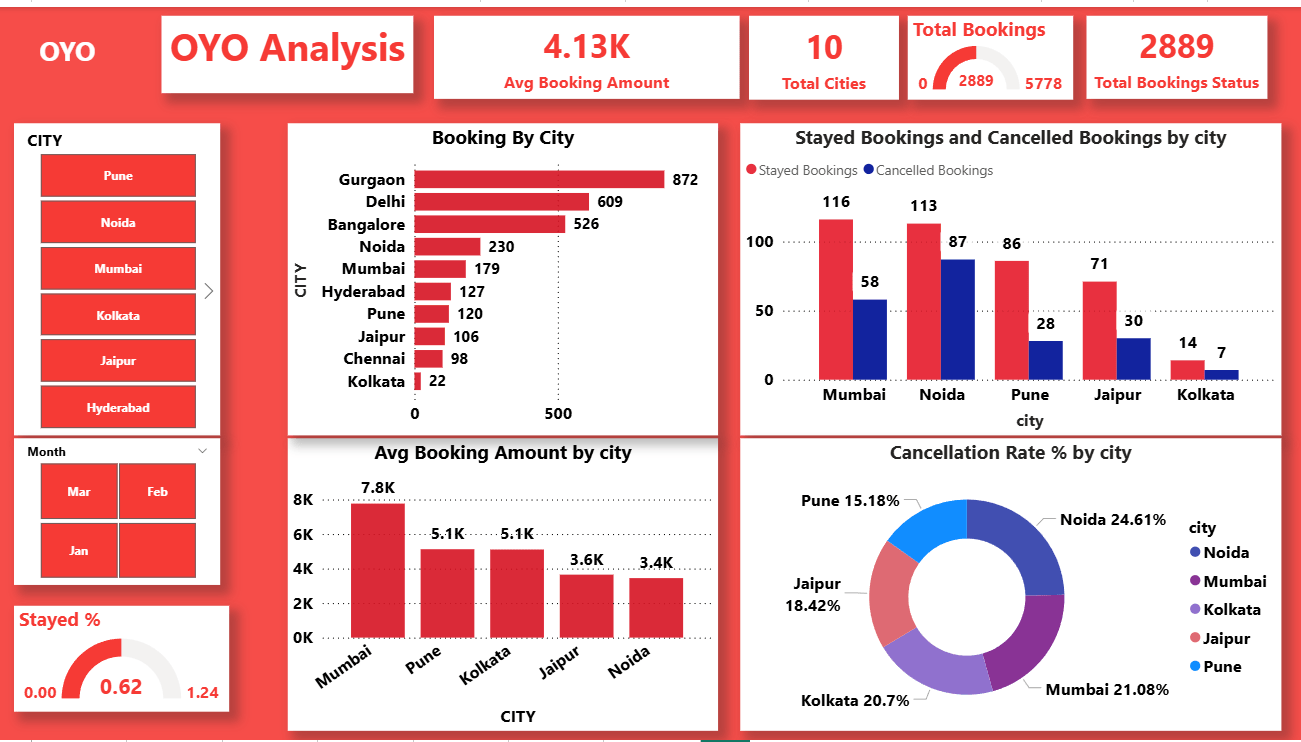

The dashboard page shown, as its layout file describes it:
{"tool":"powerbi","page":{"name":"Page 7","canvas":[1280,720],"ordinal":6},"visuals":[{"type":"textbox","box":[160,8.8,247.5,76.2],"z":0},{"type":"textbox","box":[18.8,20,97.5,48.8],"z":1000},{"type":"card","fields":{"Values":["Oyo SQL.Avg Booking Amount"]},"box":[427.5,8.8,300,81.2],"z":2000},{"type":"card","fields":{"Values":["Oyo SQL.Total Cities"]},"box":[736.2,8.8,147.5,82.5],"z":3000},{"type":"gauge","fields":{"Y":["Oyo SQL.Total Bookings"]},"box":[892.5,8.8,162.5,82.5],"z":4000},{"type":"card","fields":{"Values":["Oyo SQL.Total Bookings Status"]},"box":[1067.5,8.8,177.5,81.2],"z":5000},{"type":"lineClusteredColumnComboChart","fields":{"Category":["Oyo hotels dataset.city"],"Y":["Oyo SQL.Stayed Bookings","Oyo SQL.Cancelled Bookings"]},"box":[727.5,113.8,531.2,306.2],"z":6000},{"type":"donutChart","fields":{"Y":["Oyo SQL.Cancellation Rate %"],"Category":["Oyo hotels dataset.city"]},"box":[727.5,423.8,531.2,287.5],"z":7000},{"type":"columnChart","fields":{"Y":["Oyo SQL.Avg Booking Amount"],"Category":["Oyo hotels dataset.city"]},"box":[283.8,423.8,422.5,287.5],"z":8000},{"type":"clusteredBarChart","title":"Booking By City","fields":{"Category":["Oyo hotels dataset.city"],"Y":["Oyo SQL.Total Bookings"]},"box":[283.8,113.8,422.5,306.2],"z":9000},{"type":"slicer","fields":{"Values":["Oyo hotels dataset.city"]},"box":[15,113.8,202.5,306.2],"z":10000},{"type":"slicer","fields":{"Values":["Oyo SQL.Month"]},"box":[15,423.8,202.5,143.8],"z":10001},{"type":"gauge","fields":{"Y":["Oyo SQL.Stayed %"]},"box":[15,587.5,211.2,103.8],"z":10002}]}

Visuals, with their boxes in screenshot pixels (x1, y1, x2, y2), scaled from the page's 1280x720 canvas onto the 1301x742 screenshot:
textbox: x1=163 y1=9 x2=414 y2=88
textbox: x1=19 y1=21 x2=118 y2=71
card - Oyo SQL.Avg Booking Amount: x1=435 y1=9 x2=739 y2=93
card - Oyo SQL.Total Cities: x1=748 y1=9 x2=898 y2=94
gauge - Oyo SQL.Total Bookings: x1=907 y1=9 x2=1072 y2=94
card - Oyo SQL.Total Bookings Status: x1=1085 y1=9 x2=1265 y2=93
lineClusteredColumnComboChart - Oyo hotels dataset.city x Oyo SQL.Stayed Bookings: x1=739 y1=117 x2=1279 y2=433
donutChart - Oyo SQL.Cancellation Rate % x Oyo hotels dataset.city: x1=739 y1=437 x2=1279 y2=733
columnChart - Oyo SQL.Avg Booking Amount x Oyo hotels dataset.city: x1=288 y1=437 x2=718 y2=733
"Booking By City" clusteredBarChart: x1=288 y1=117 x2=718 y2=433
slicer - Oyo hotels dataset.city: x1=15 y1=117 x2=221 y2=433
slicer - Oyo SQL.Month: x1=15 y1=437 x2=221 y2=585
gauge - Oyo SQL.Stayed %: x1=15 y1=605 x2=230 y2=712
